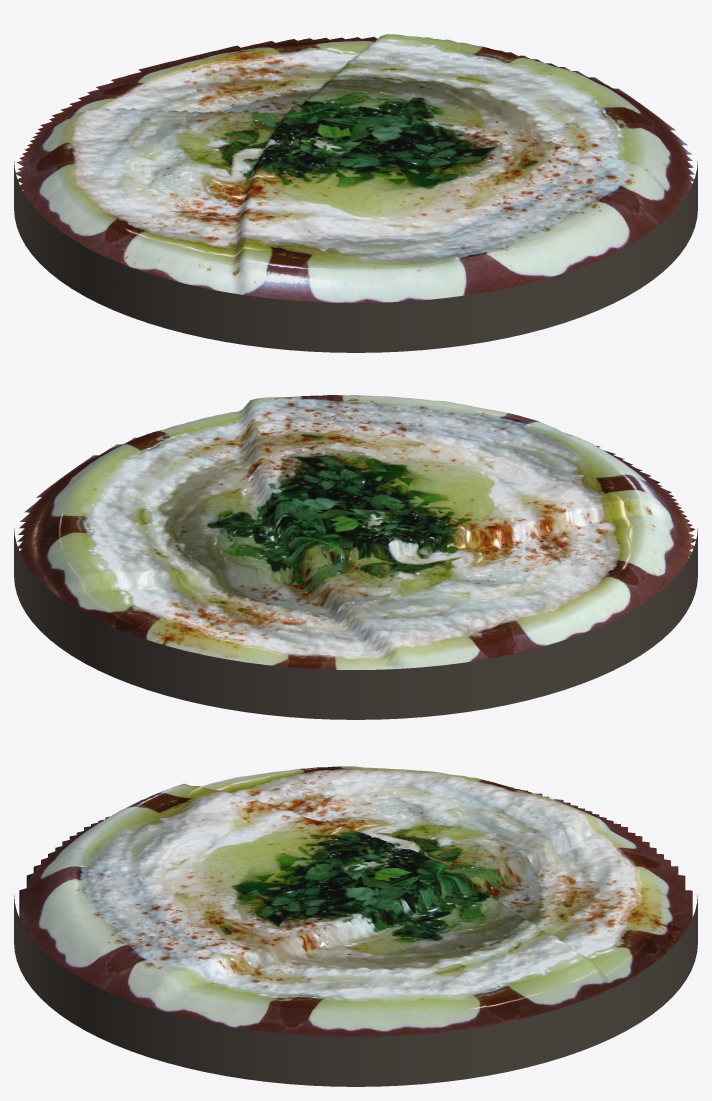
The model's file is plato.glb.
3 renders of one model, top to bottom at view 1: azimuth 30°, elevation 25°; view 2: azimuth 150°, elevation 25°; view 3: azimuth 270°, elevation 25°, orthographic.
Size of the model in its own units: 0.2985 by 0.0321 by 0.2985.
Materials: 2 (1 with a texture image).
